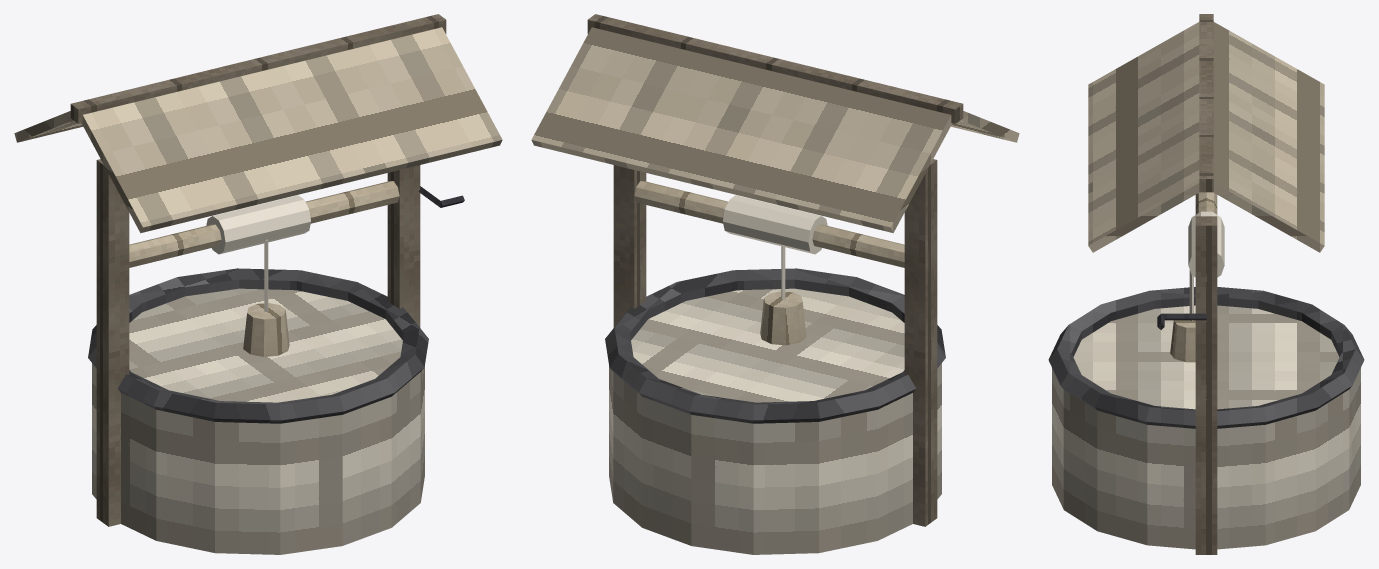
Rendered from well.glb.
3 views of the same model, side by side, from view 1: azimuth 30°, elevation 25°; view 2: azimuth 150°, elevation 25°; view 3: azimuth 270°, elevation 25° (orthographic). The views are drawn at different scales.
Visible parts, largest first — view 1: body; view 2: body; view 3: body.
Boxes of the visible parts, x1,y1,x2,y2 form: body: (14,14,502,554); body: (531,14,1019,554); body: (1048,14,1364,554).
Size of the model in its own units: 2.15 by 2.36 by 1.74.
Materials: 8 (6 with a texture image).
